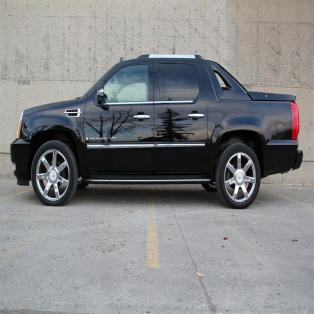Auto: (4, 14, 312, 245)
